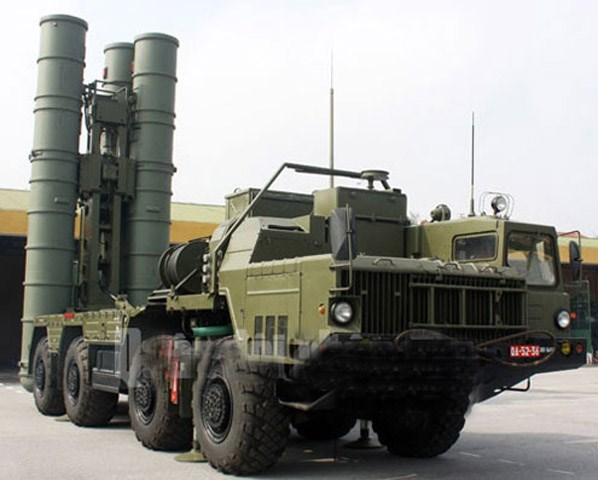plate: (510, 341, 541, 362)
